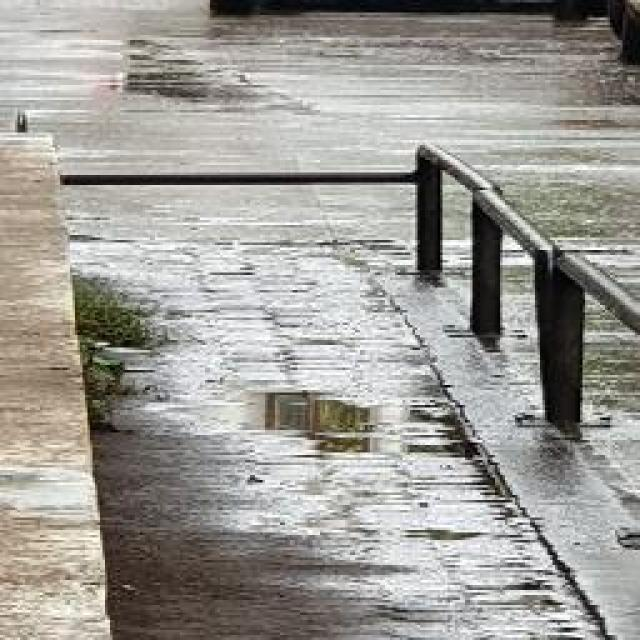stagnation: (221, 372, 456, 469)
